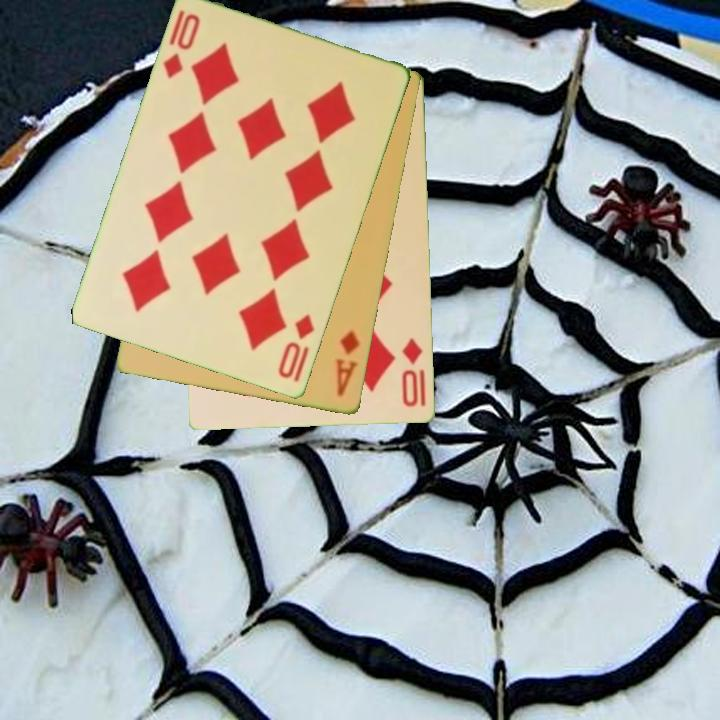10d: (274, 311, 318, 386), (159, 10, 204, 83), (399, 335, 426, 410)
Ad: (332, 327, 363, 400)
